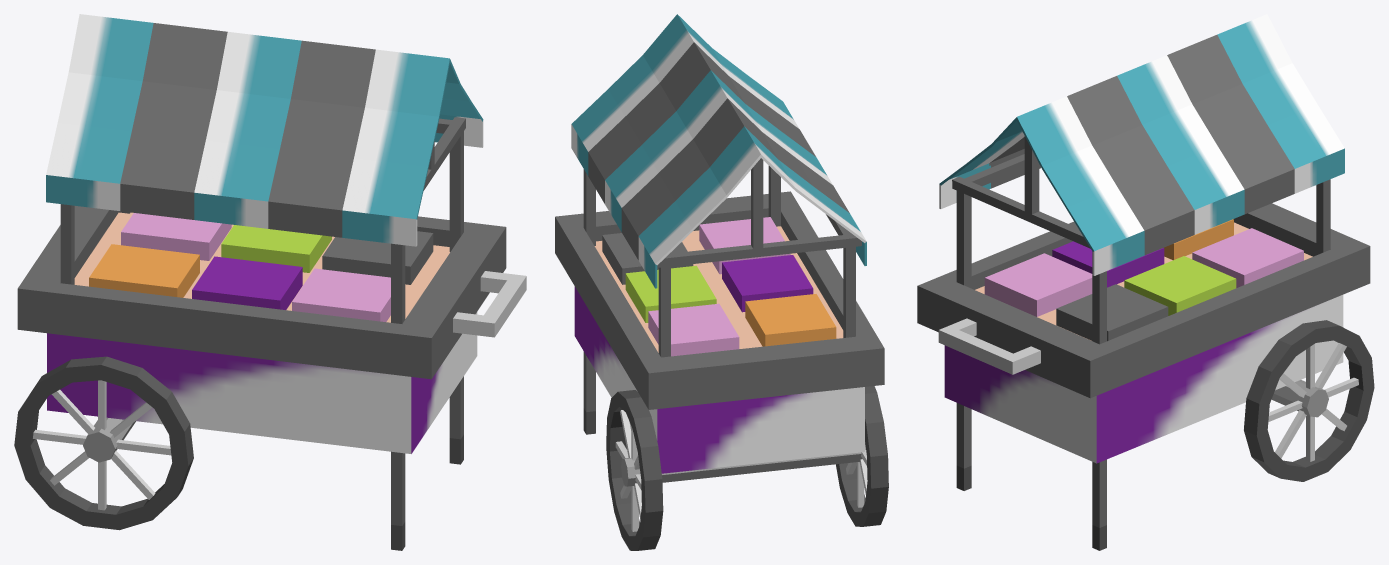
The model's file is icecar_01.FBX.
3 views of the same model, side by side, from view 1: azimuth 30°, elevation 25°; view 2: azimuth 150°, elevation 25°; view 3: azimuth 270°, elevation 25° (orthographic). The views are drawn at different scales.
Parts seen in each view (by area): view 1: IceCream_Cart; view 2: IceCream_Cart; view 3: IceCream_Cart.
Part boxes in pixels (x1,y1,x2,y2): IceCream_Cart: (14, 14, 526, 550); IceCream_Cart: (555, 14, 888, 550); IceCream_Cart: (917, 14, 1374, 550).
Size of the model in its own units: 458 by 454 by 461.
